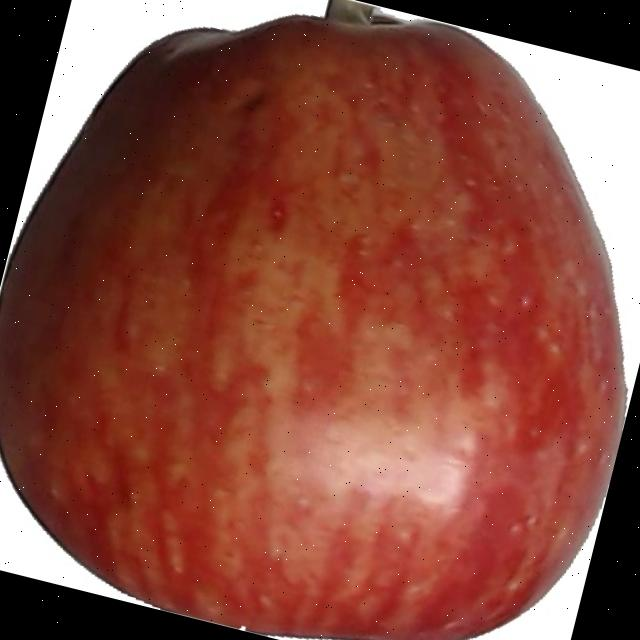apple: (0, 9, 626, 640)
